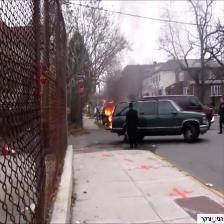fire: (102, 106, 115, 128)
smoke: (108, 73, 142, 97)
